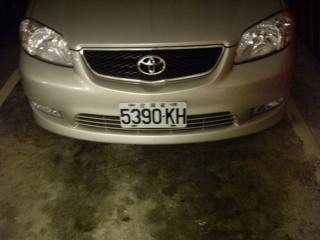plate: (116, 101, 189, 130)
